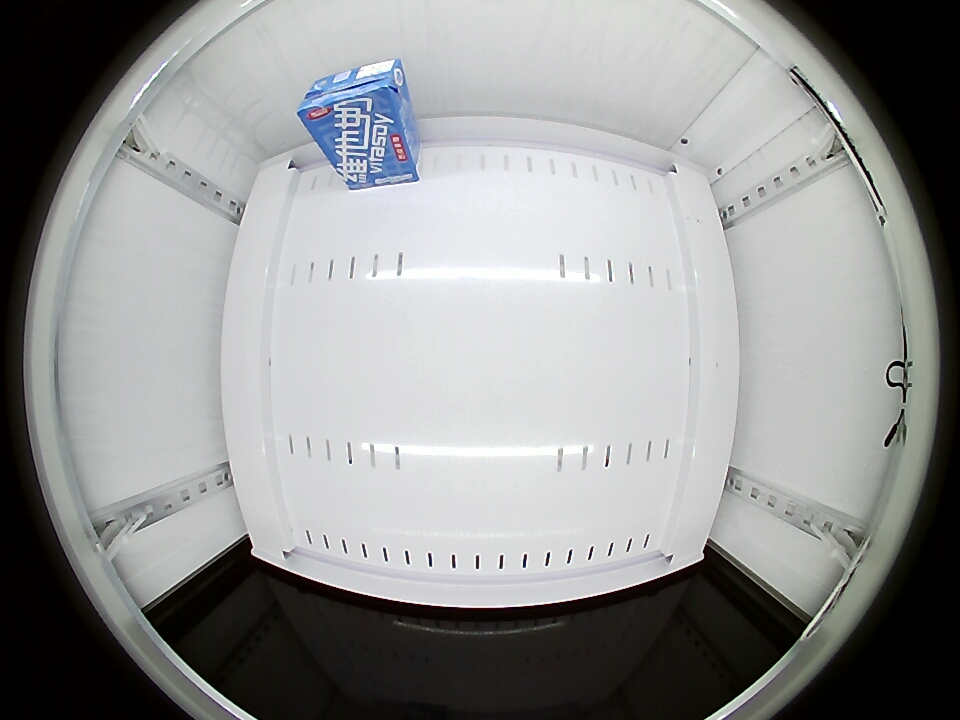weitanai: (297, 58, 410, 140)
